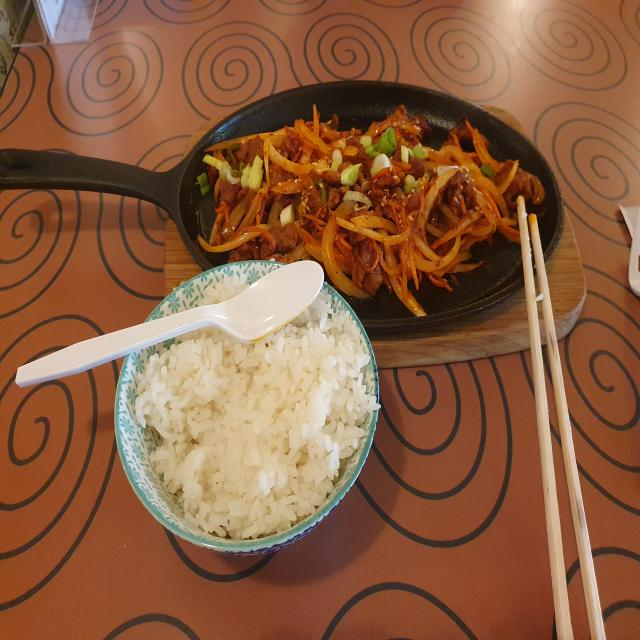Bowl: (114, 258, 380, 556)
Plate: (143, 91, 584, 338)
